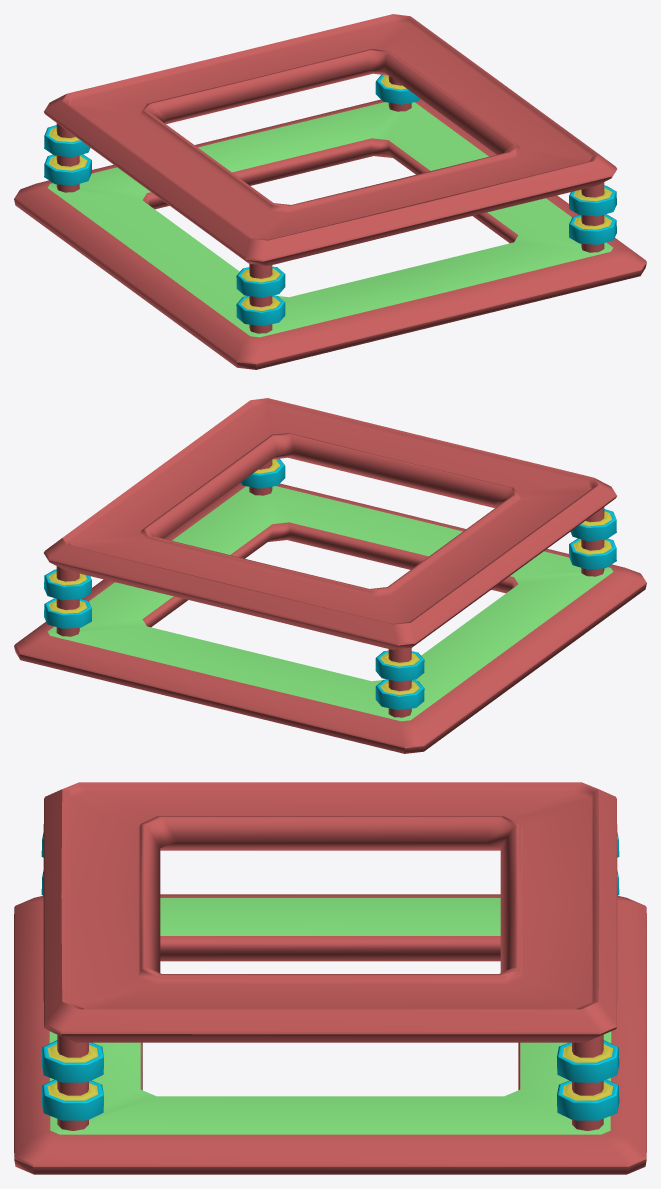
Rendered from outRing.fbx.
The picture shows the model from 3 angles, top to bottom: view 1: azimuth 30°, elevation 25°; view 2: azimuth 150°, elevation 25°; view 3: azimuth 270°, elevation 25°; orthographic projection. The views are drawn at different scales.
Parts seen in each view (by area): view 1: pTorus3; view 2: pTorus3; view 3: pTorus3.
Part boxes in pixels (x1,y1,x2,y2): pTorus3: (14, 14, 646, 369); pTorus3: (14, 398, 646, 753); pTorus3: (14, 782, 646, 1174).
Bounding box in the file's own units: 59.36 × 15.79 × 59.39.
